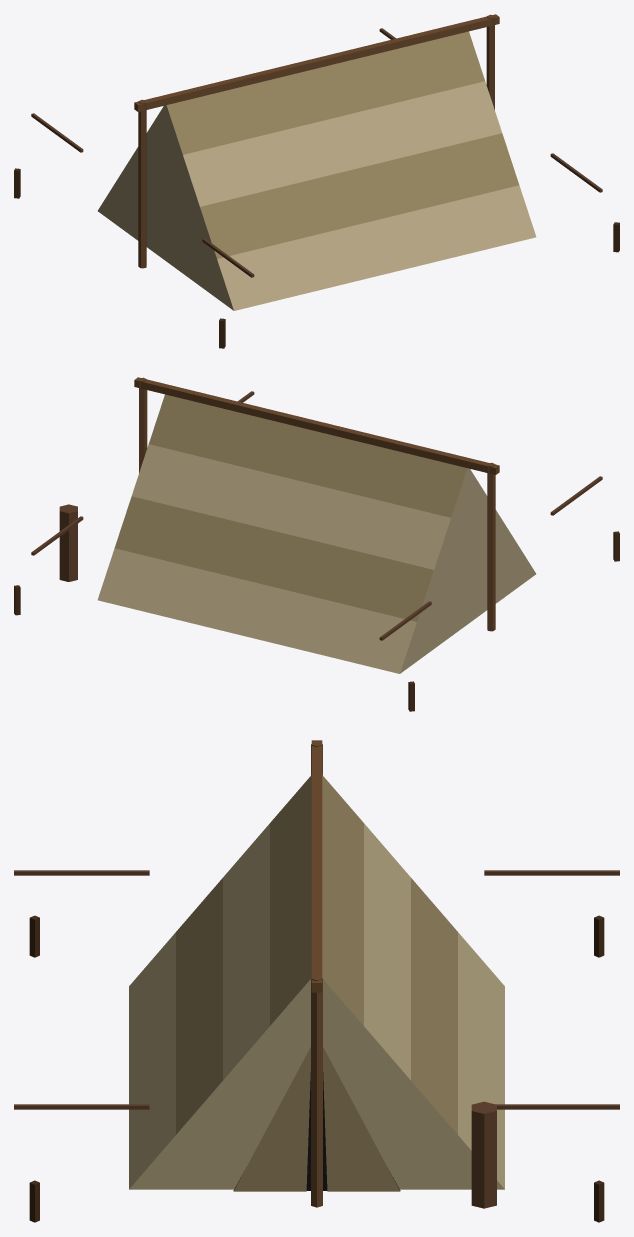
File: canvas-tent.glb
3 views of the same model, one above another, from view 1: azimuth 30°, elevation 25°; view 2: azimuth 150°, elevation 25°; view 3: azimuth 270°, elevation 25° (orthographic). The views are drawn at different scales.
Parts seen in each view (by area): view 1: canvas-tent; view 2: canvas-tent; view 3: canvas-tent.
Boxes of the visible parts, x1,y1,x2,y2 form: canvas-tent: [14, 14, 619, 348]; canvas-tent: [14, 377, 619, 711]; canvas-tent: [14, 740, 619, 1222].
Bounding box in the file's own units: 6.1 × 2.4 × 5.8.
